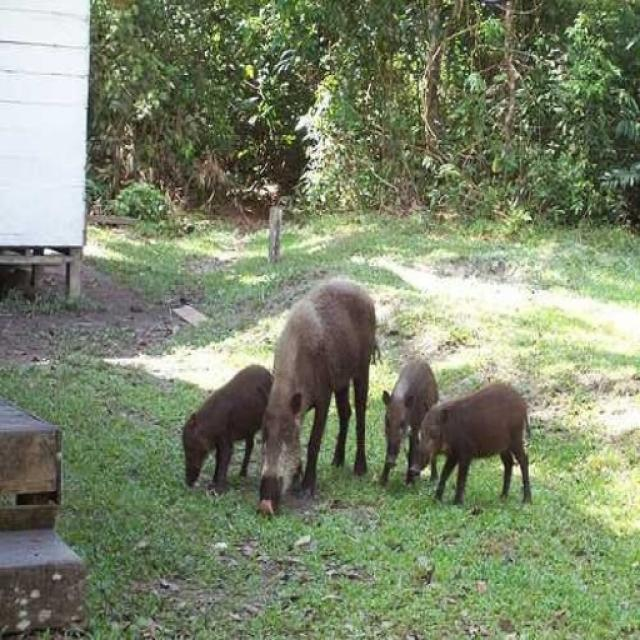pig: (244, 258, 384, 553), (418, 385, 554, 508), (172, 354, 276, 478), (375, 335, 445, 483)
